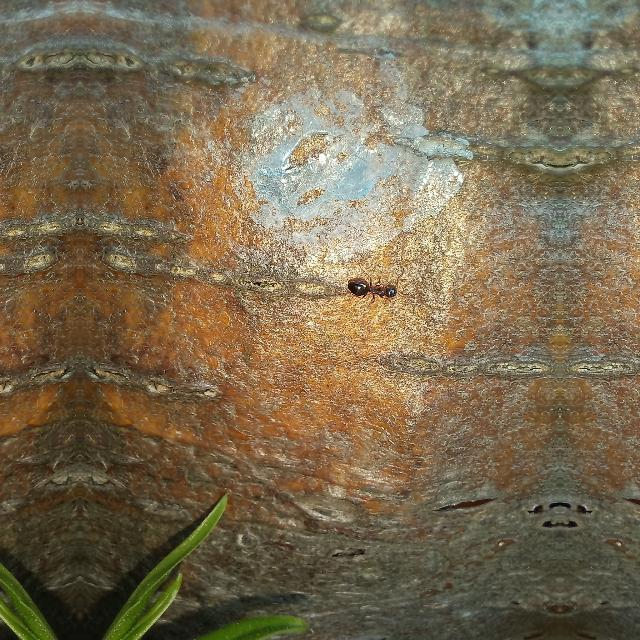Dolichoderus: (342, 275, 402, 305)
